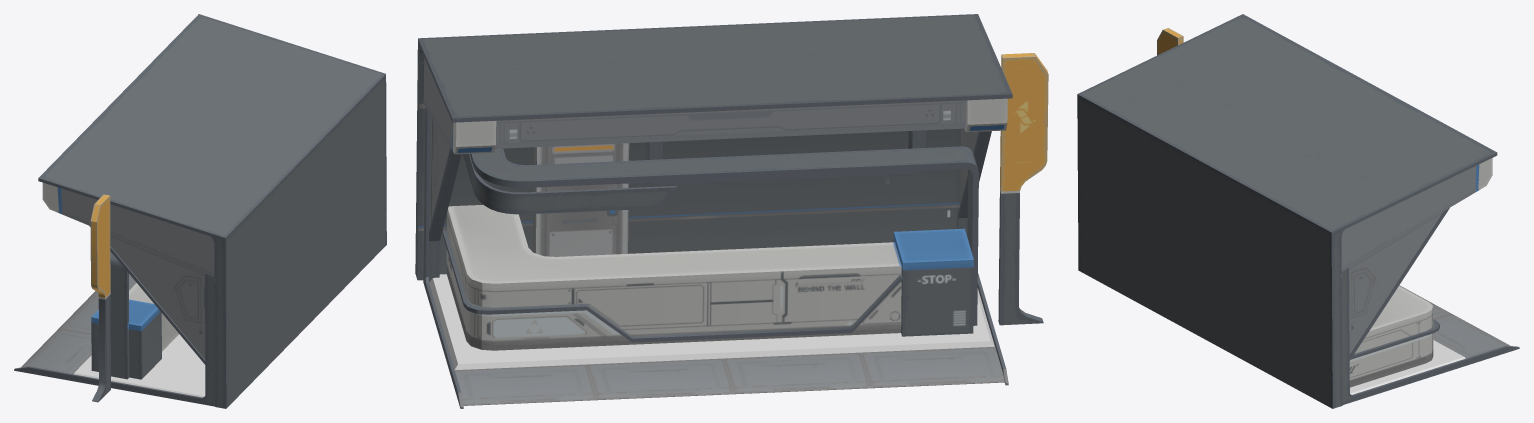
Rendered from BC_Fbx_TanWei_1.fbx.
The picture shows the model from 3 angles, left to right: view 1: azimuth 30°, elevation 25°; view 2: azimuth 150°, elevation 25°; view 3: azimuth 270°, elevation 25°; orthographic projection. The views are drawn at different scales.
Parts seen in each view (by area): view 1: BC_Fbx_TanWei_1.002; view 2: BC_Fbx_TanWei_1.002; view 3: BC_Fbx_TanWei_1.002.
Boxes of the visible parts, x1=… form: BC_Fbx_TanWei_1.002: x1=14, y1=14, x2=386, y2=408; BC_Fbx_TanWei_1.002: x1=415, y1=14, x2=1048, y2=408; BC_Fbx_TanWei_1.002: x1=1077, y1=14, x2=1519, y2=408.
Size of the model in its own units: 1363 by 658 by 1265.
